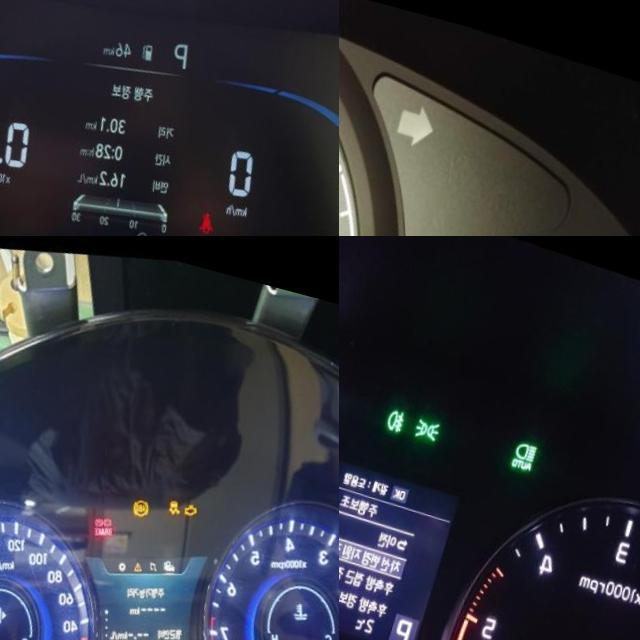FrontFogLight: (396, 390, 419, 418)
SideLamp: (425, 397, 454, 426)
